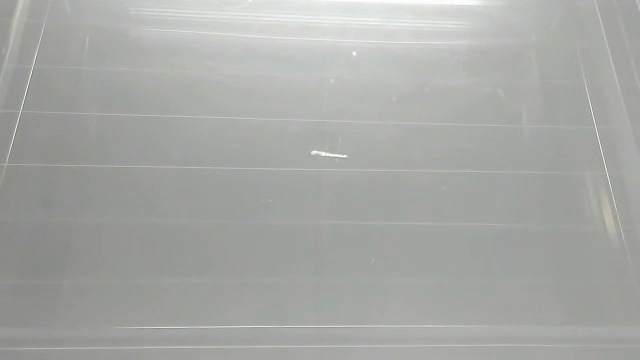alpha: (307, 147, 349, 162)
